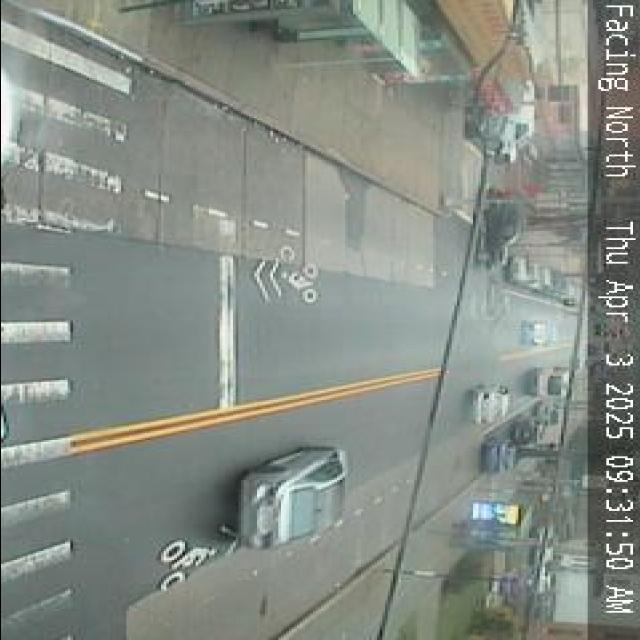open parking: (494, 424, 520, 454), (522, 409, 546, 431)
parkedCars: (468, 398, 571, 486)
